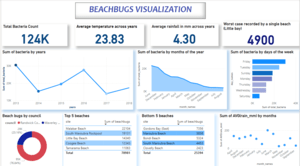

The page's visual inventory and layout, read from the dashboard file:
{"tool":"powerbi","page":{"name":"Page 1","canvas":[1280,720],"ordinal":0},"visuals":[{"type":"textbox","box":[317.8,13,559.5,69.7],"z":0},{"type":"lineChart","title":"Sum of bacteria by years","fields":{"Category":["bacteria_by_day_month (2).years"],"Y":["Sum(bacteria_by_day_month (2).total_bacteria)"]},"box":[0,214.7,566.3,257.7],"z":1000},{"type":"card","title":"Total Bacteria Count","fields":{"Values":["Sum(bacteria_by_day_month (2).total_bacteria)"]},"box":[3.2,105.4,280.5,94.1],"z":2000},{"type":"card","title":"Average temperature across years","fields":{"Values":["Avg(bacteria_by_day_month (2).Avg_temp)"]},"box":[317.8,105.4,295.1,94.1],"z":3000},{"type":"card","title":"Average rainfall in mm across years","fields":{"Values":["Avg(bacteria_by_day_month (2).AVG(rain_mm))"]},"box":[640.5,105.4,291.9,94.1],"z":4000},{"type":"barChart","title":"Sum of bacteria by days of the week","fields":{"Category":["bacteria_by_day_month (2).day_names"],"Y":["Sum(bacteria_by_day_month (2).total_bacteria)"]},"box":[979.8,214.7,299,257.7],"z":5000},{"type":"areaChart","title":"Sum of bacteria by months of the year","fields":{"Category":["bacteria_by_day_month (2).month_names"],"Y":["Sum(bacteria_by_day_month (2).total_bacteria)"]},"box":[580.6,214.7,388.1,256.1],"z":6000},{"type":"scatterChart","title":"Sum of AVG(rain_mm) by months","fields":{"Y":["Sum(bacteria_by_day_month (2).AVG(rain_mm))"],"X":["bacteria_by_day_month (2).month_names"]},"box":[932.4,488.1,347,227],"z":7000},{"type":"card","title":"Worst case recorded by a single beach (Little bay)","fields":{"Values":["bugcount_beaches.Measure"]},"box":[948.7,94.1,330.8,105.4],"z":8000},{"type":"donutChart","title":"Beach bugs by council","fields":{"Y":["Sum(bugcount_council.total)"],"Category":["bugcount_council.council"]},"box":[0,488.1,262.7,231.9],"z":9000},{"type":"tableEx","title":"Top 5 beaches","fields":{"Values":["bugcount_beaches.site","Sum(bugcount_beaches.beachbugs)"]},"box":[265.9,488.1,314.6,227],"z":10000},{"type":"tableEx","title":"Bottom 5 beaches","fields":{"Values":["bugcount_beaches.site","Sum(bugcount_beaches.beachbugs)"]},"box":[598.1,488.3,316.5,227.5],"z":11000}]}

Visuals, with their boxes in screenshot pixels (x1, y1, x2, y2), scaled from the page's 1280x720 canvas onto the 300x166 screenshot:
textbox: 74/3/206/19
"Sum of bacteria by years" lineChart: 0/50/133/109
"Total Bacteria Count" card: 1/24/66/46
"Average temperature across years" card: 74/24/144/46
"Average rainfall in mm across years" card: 150/24/219/46
"Sum of bacteria by days of the week" barChart: 230/50/299/109
"Sum of bacteria by months of the year" areaChart: 136/50/227/109
"Sum of AVG(rain_mm) by months" scatterChart: 219/113/299/165
"Worst case recorded by a single beach (Little bay)" card: 222/22/299/46
"Beach bugs by council" donutChart: 0/113/62/165
"Top 5 beaches" tableEx: 62/113/136/165
"Bottom 5 beaches" tableEx: 140/113/214/165
